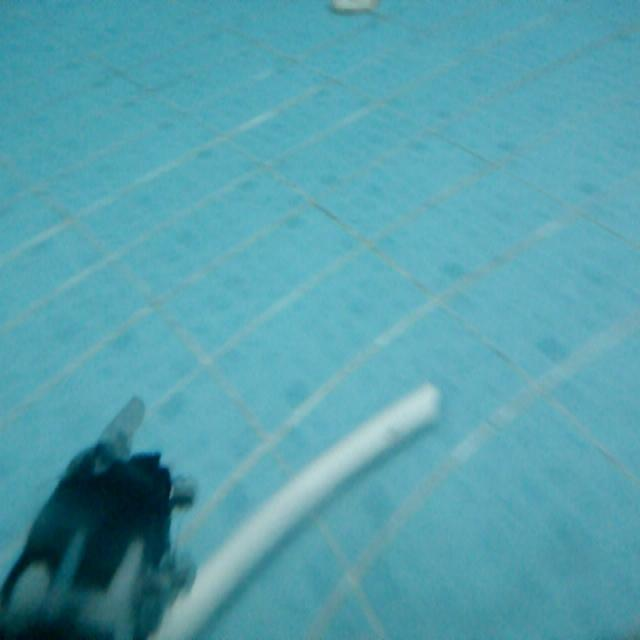Cube: (143, 376, 442, 639)
